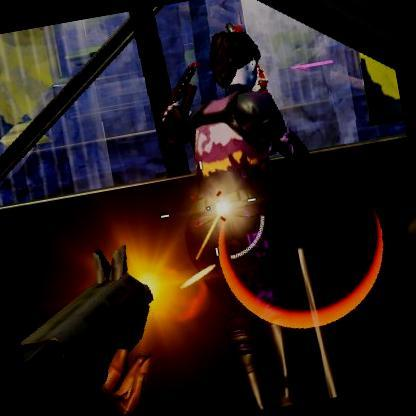person: (147, 23, 325, 391)
